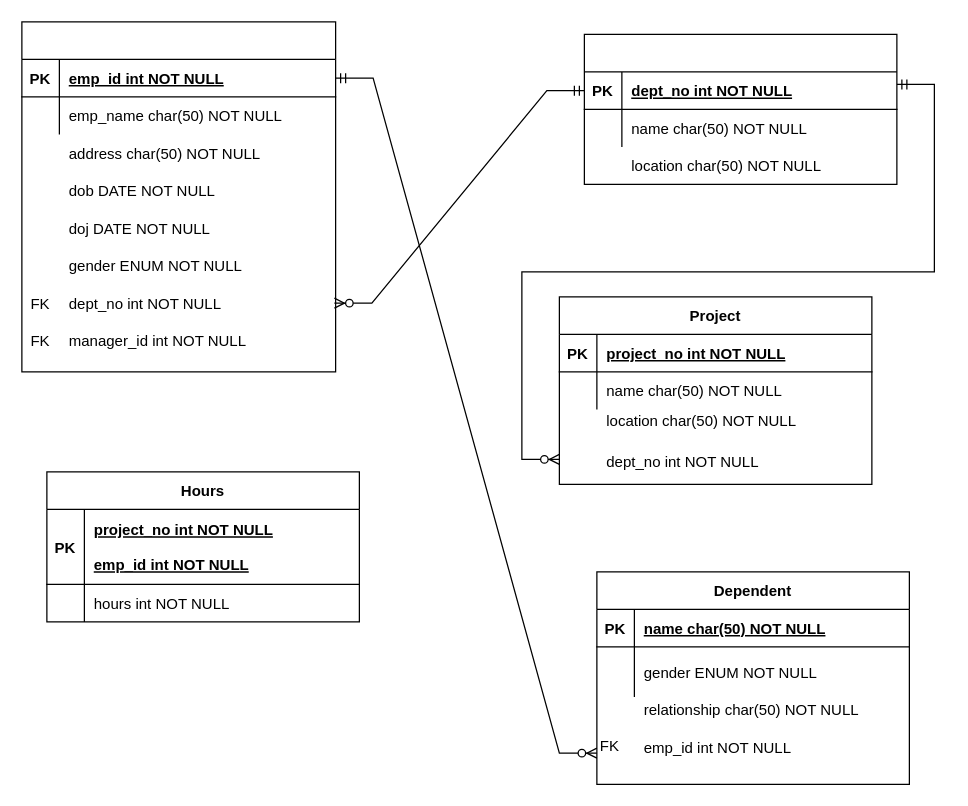
Some shapes in this 968 by 806 pixel diagram are drawn without their labels. The box of each missing label's shape, as (x1, y1, x2, y2) in pixels:
Department: (583, 33, 897, 184)
Employee: (21, 21, 336, 372)
